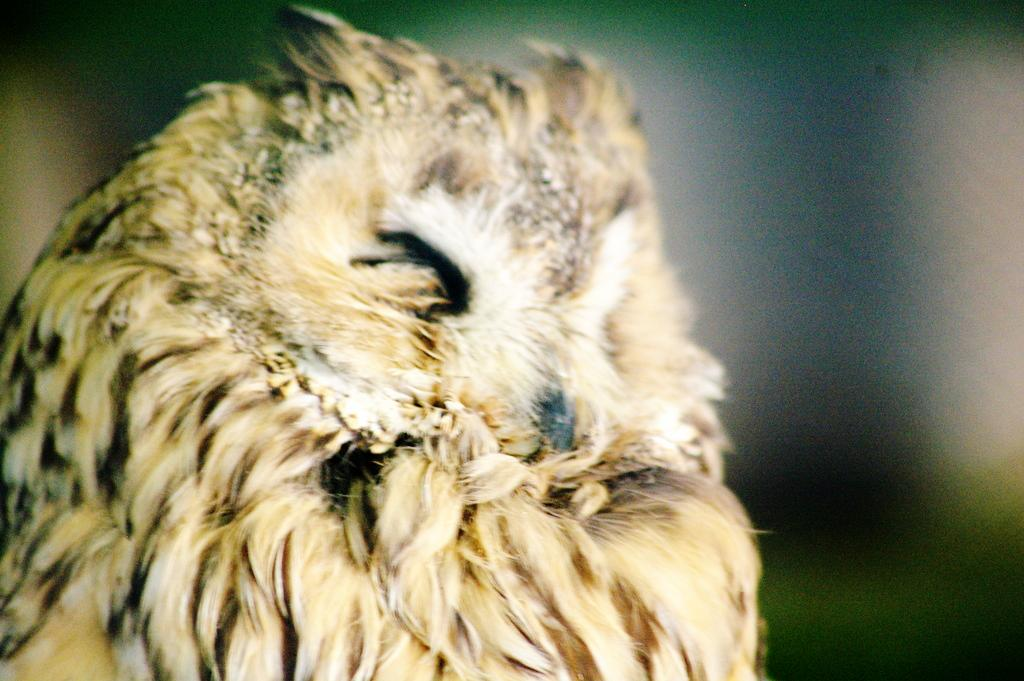Owl: (0, 0, 764, 680)
